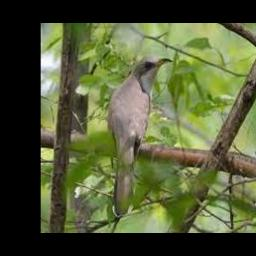Cuckoo: (107, 58, 173, 217)
